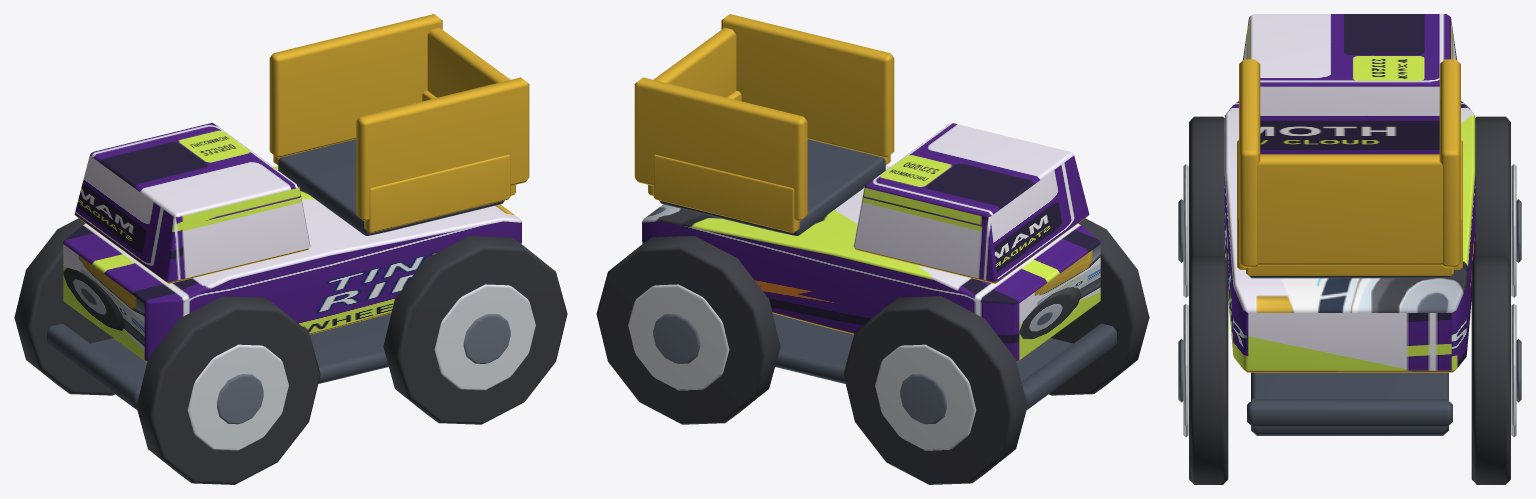
3 renders of one model, left to right at view 1: azimuth 30°, elevation 25°; view 2: azimuth 150°, elevation 25°; view 3: azimuth 270°, elevation 25°, orthographic. The views are drawn at different scales.
Parts seen in each view (by area): view 1: BW-04_connected_shell, BW-04_cabin, Tire, Tire.002, raised tipper wall.001, raised tipper wall, Tire.001, cargo side, Rim, Rim.002, underbody, cargo floor (+4 smaller); view 2: BW-04_connected_shell, BW-04_cabin, Tire.001, Tire.003, raised tipper wall, raised tipper wall.001, Tire, cargo side.001, Rim.001, Rim.003, underbody, cargo floor (+4 smaller); view 3: BW-04_connected_shell, BW-04_cabin, raised tail gate, Tire.002, Tire.003, underbody, rear bumper, Tire, Tire.001, raised tipper wall, raised tipper wall.001, cargo tail (+7 smaller).
Part boxes in pixels (x1=…): BW-04_connected_shell: x1=63, y1=166, x2=521, y2=361; BW-04_cabin: x1=74, y1=122, x2=310, y2=283; Tire: x1=136, y1=296, x2=320, y2=484; Tire.002: x1=383, y1=236, x2=567, y2=424; raised tipper wall.001: x1=269, y1=14, x2=442, y2=157; raised tipper wall: x1=356, y1=77, x2=529, y2=221; Tire.001: x1=14, y1=218, x2=114, y2=395; cargo side: x1=364, y1=154, x2=510, y2=232; Rim: x1=187, y1=344, x2=288, y2=450; Rim.002: x1=434, y1=284, x2=535, y2=390; underbody: x1=91, y1=313, x2=391, y2=383; cargo floor: x1=278, y1=139, x2=504, y2=235; BW-04_connected_shell: x1=642, y1=166, x2=1100, y2=361; BW-04_cabin: x1=853, y1=122, x2=1089, y2=283; Tire.001: x1=843, y1=296, x2=1027, y2=484; Tire.003: x1=596, y1=236, x2=780, y2=424; raised tipper wall: x1=721, y1=14, x2=894, y2=157; raised tipper wall.001: x1=634, y1=77, x2=807, y2=221; Tire: x1=1049, y1=218, x2=1149, y2=395; cargo side.001: x1=653, y1=154, x2=799, y2=232; Rim.001: x1=875, y1=344, x2=976, y2=450; Rim.003: x1=628, y1=284, x2=729, y2=390; underbody: x1=772, y1=313, x2=1072, y2=383; cargo floor: x1=659, y1=139, x2=885, y2=235; BW-04_connected_shell: x1=1224, y1=101, x2=1475, y2=372; BW-04_cabin: x1=1242, y1=14, x2=1457, y2=154; raised tail gate: x1=1257, y1=154, x2=1442, y2=265; Tire.002: x1=1189, y1=256, x2=1228, y2=484; Tire.003: x1=1471, y1=256, x2=1510, y2=484; underbody: x1=1251, y1=372, x2=1448, y2=435; rear bumper: x1=1247, y1=399, x2=1452, y2=427; Tire: x1=1189, y1=116, x2=1224, y2=260; Tire.001: x1=1475, y1=116, x2=1510, y2=260; raised tipper wall: x1=1239, y1=59, x2=1260, y2=267; raised tipper wall.001: x1=1439, y1=59, x2=1460, y2=267; cargo tail: x1=1246, y1=265, x2=1453, y2=275.
Size of the model in its own units: 370 by 264 by 227.
